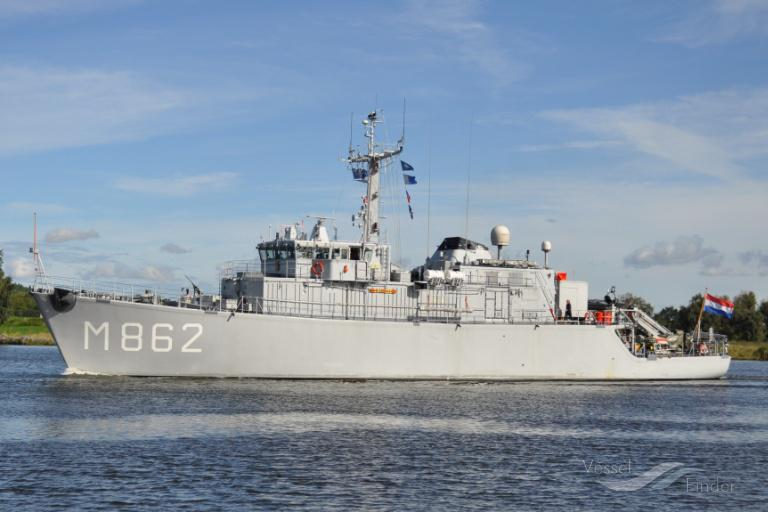OCR: (79, 312, 206, 360)
